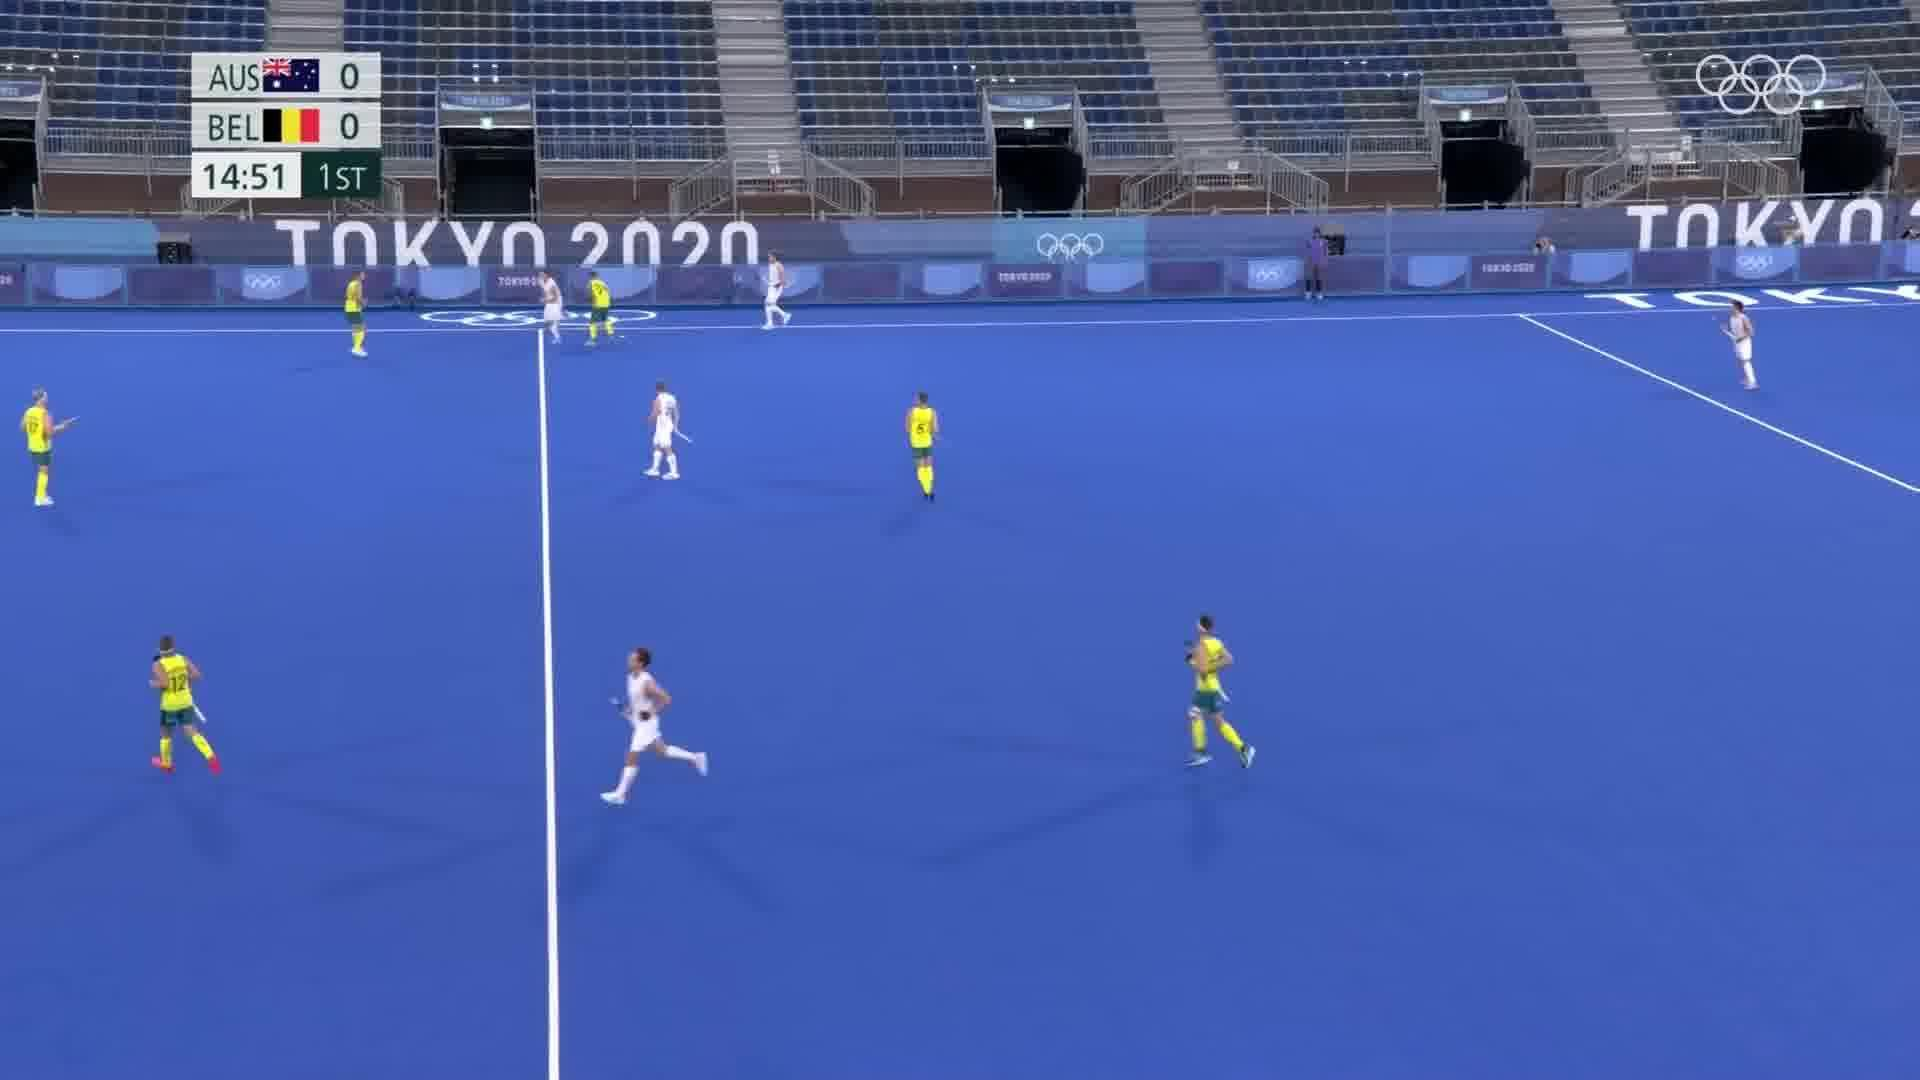ball: (618, 334, 633, 343)
